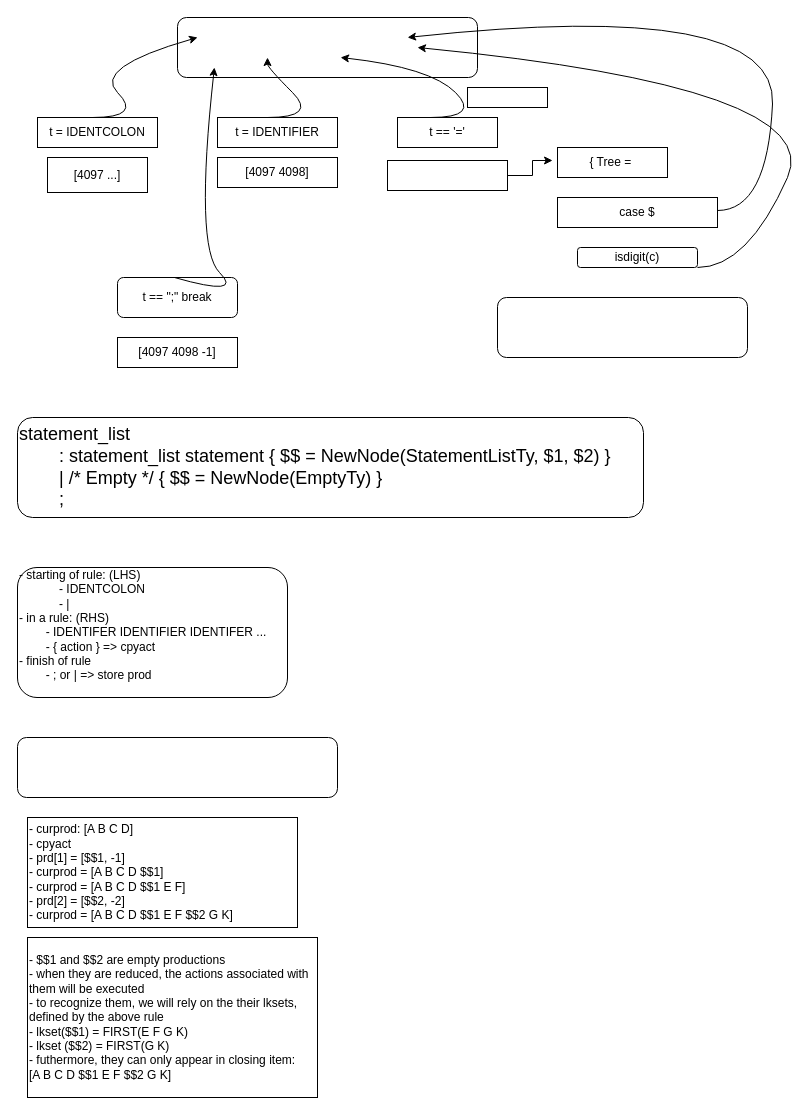
This 809x1115 diagram has some shape labels left out. The shapes that lost their labels are listed below. From the top down, each one's box as (x1, y1, x2, y2) in pixels, then its label:
(176, 16, 478, 78): program : statement_list { Tree = $1 } ;
(466, 86, 548, 108): ungetrune
(386, 160, 508, 190): cpact([4097 4098], 2)
(496, 296, 748, 358): { Tree = yyDollar [ 1 ]. tnode }
(16, 736, 338, 798): - Action may be embedded in the middle of rule A: B C D {a1} E F {a2} G K;
